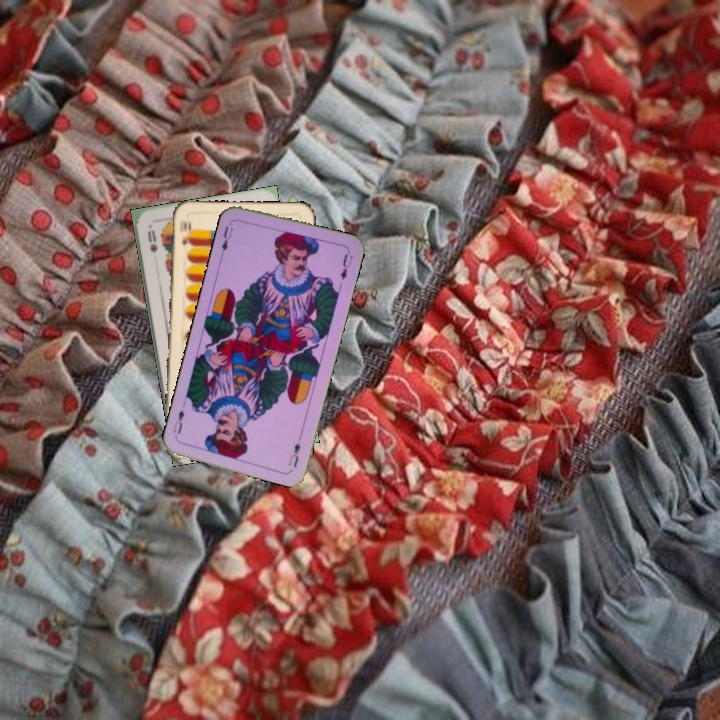E10: (176, 216, 190, 247)
EU: (217, 218, 236, 254), (284, 438, 303, 470)
S8: (144, 227, 160, 255)
